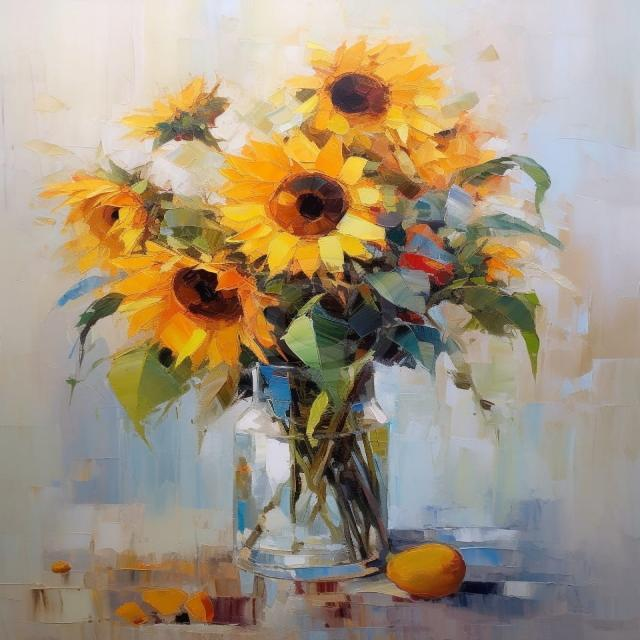sunflower: (215, 127, 389, 279), (107, 240, 280, 374), (283, 35, 446, 146), (36, 178, 148, 276), (401, 105, 498, 193), (119, 78, 219, 142), (478, 243, 528, 284)
